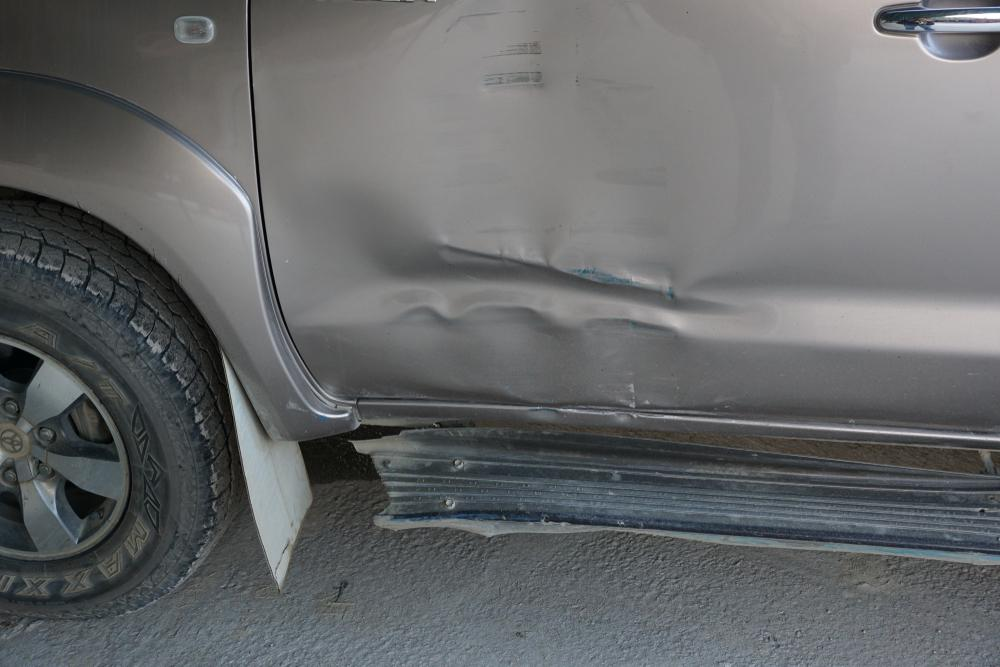dent: (338, 0, 778, 415)
